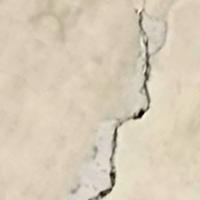crack: (90, 6, 161, 199)
